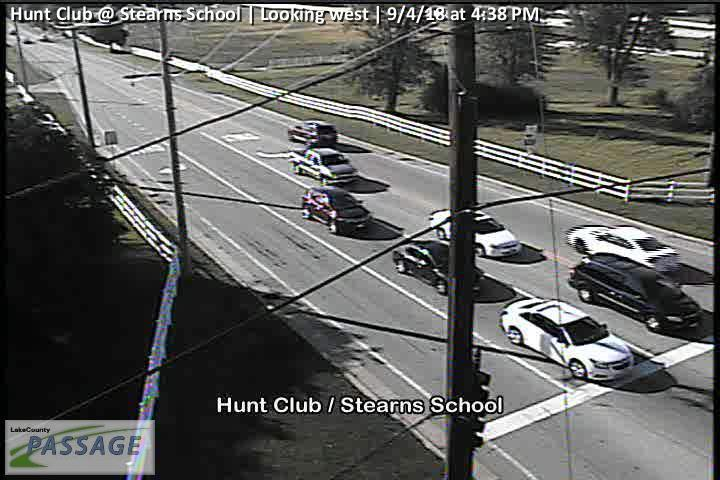SUV: (566, 252, 703, 334)
Sedan: (497, 296, 633, 383), (566, 223, 680, 273), (390, 240, 480, 300), (427, 207, 522, 260), (303, 187, 371, 235), (294, 149, 356, 183), (288, 120, 337, 145)
